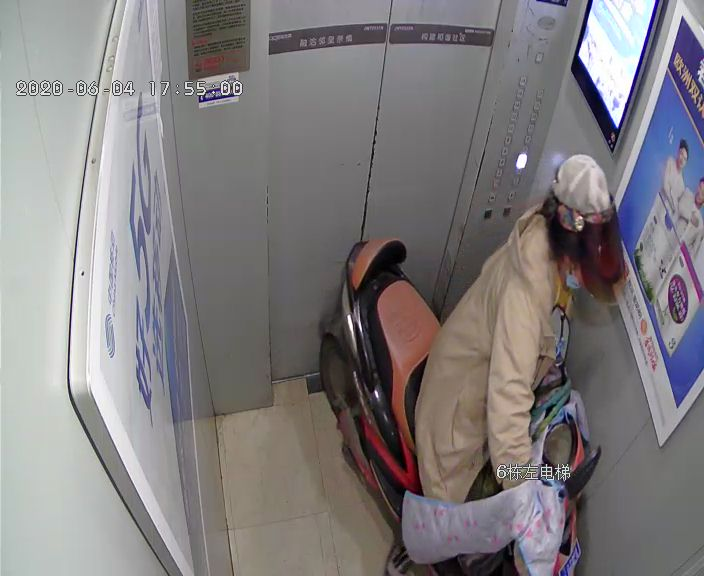Electric-bicycle: (317, 235, 602, 575)
